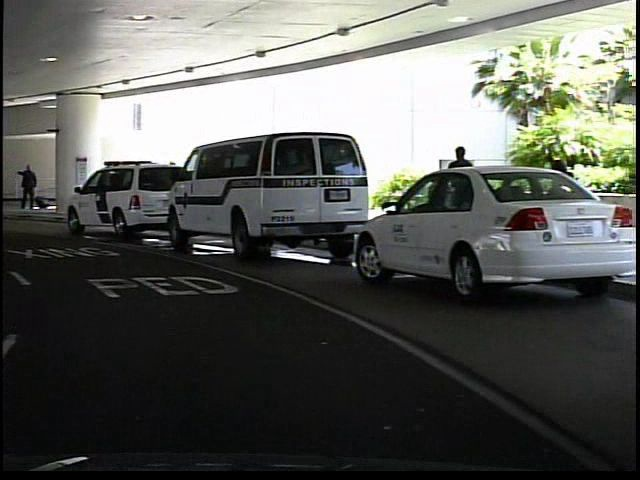person: (440, 141, 473, 251), (13, 155, 40, 215)
